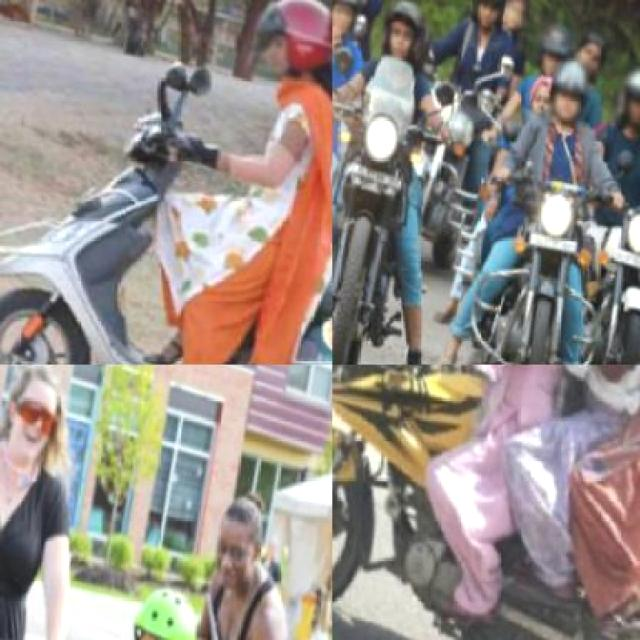With Helmet: (232, 0, 331, 100), (112, 563, 208, 639), (541, 37, 599, 125), (368, 0, 434, 68), (528, 5, 577, 70), (603, 48, 639, 129), (455, 0, 522, 38), (332, 0, 370, 43), (497, 0, 534, 23)
Without Helmet: (0, 364, 75, 480), (571, 14, 609, 78)
